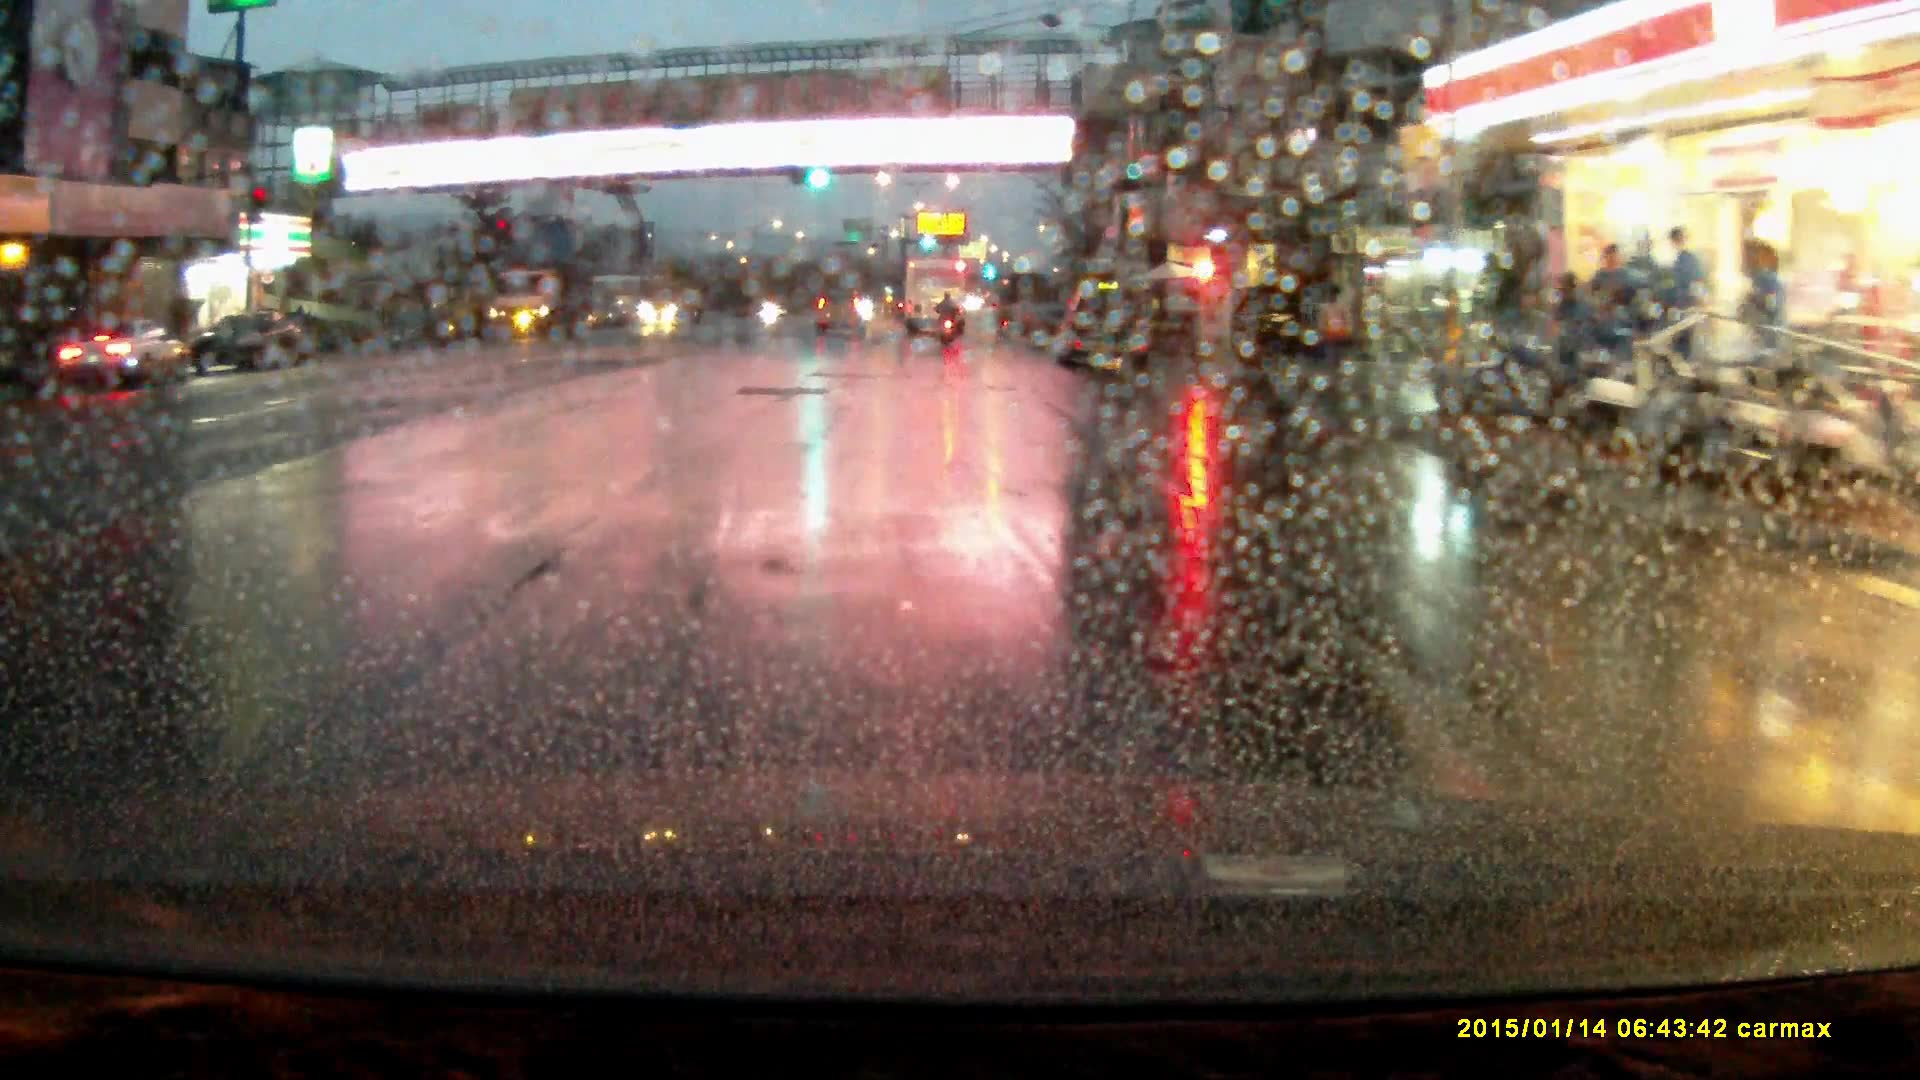rider: (938, 289, 961, 346)
vehicle: (62, 316, 182, 391), (488, 261, 593, 339), (1055, 289, 1148, 376), (188, 310, 311, 374), (1234, 283, 1320, 355), (904, 258, 970, 336), (639, 283, 709, 328), (815, 292, 869, 339)
